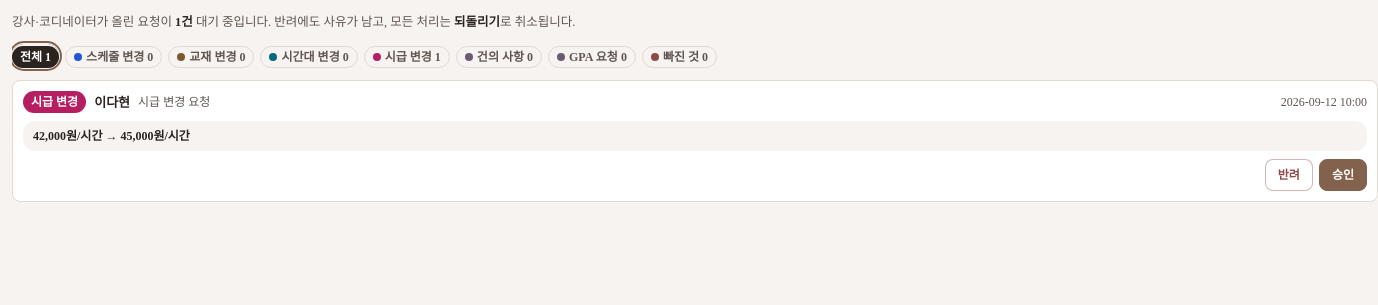
Scenario: 처음에는 두 단추만 있고 사유 칸이 없다 — 「반려」를 눌러야 펼쳐진다
Click the button "반려". click: (1289, 175)
box: [1265,159,1313,191]
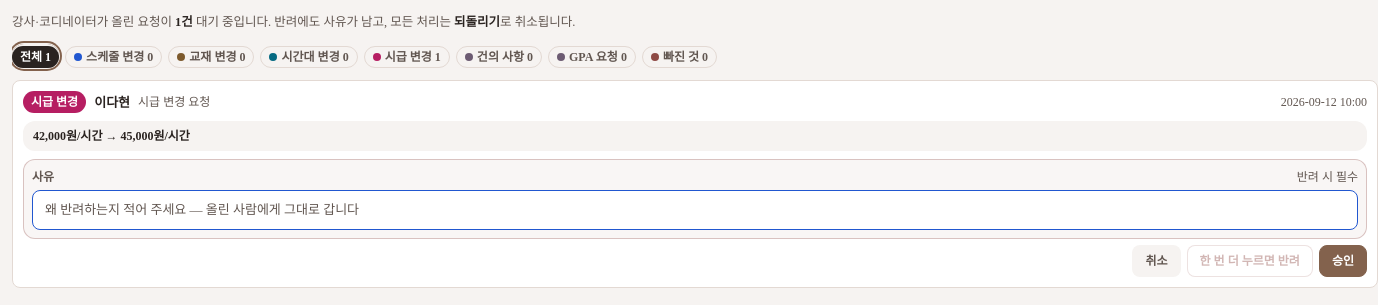
Check: the field labelled "사유" is shown, box [32,190,1358,230]
